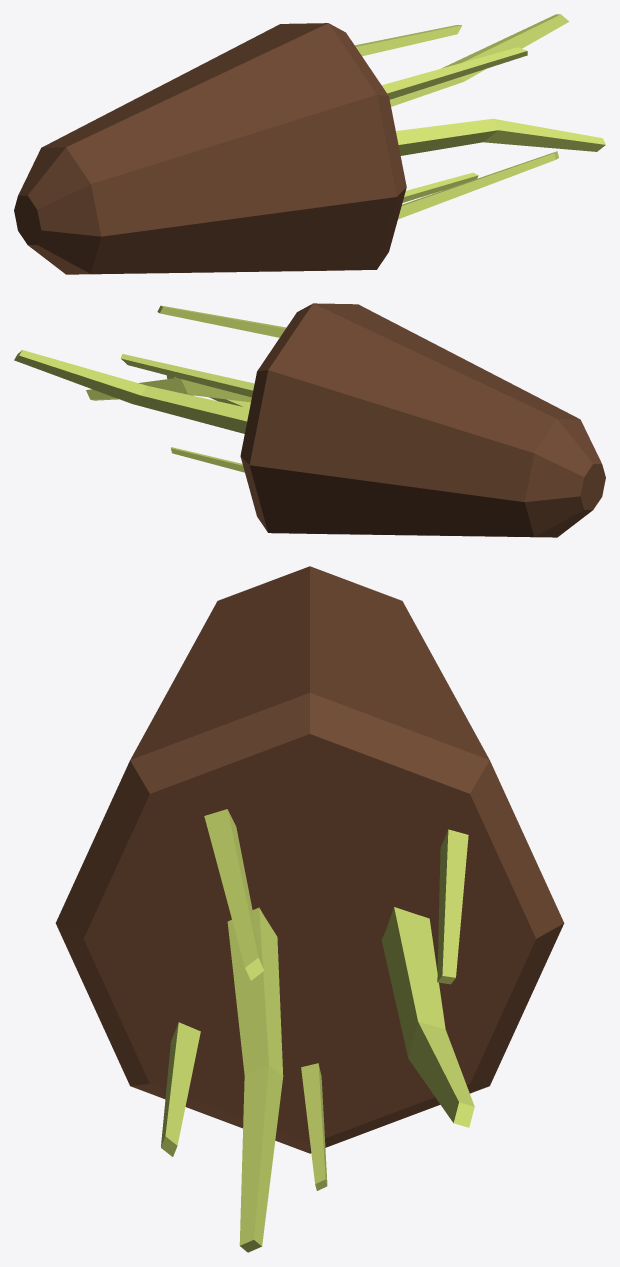
Rendered from Carrot_Seedling.fbx.
3 views of the same model, one above another, from view 1: azimuth 30°, elevation 25°; view 2: azimuth 150°, elevation 25°; view 3: azimuth 270°, elevation 25° (orthographic). The views are drawn at different scales.
Visible parts, largest first — view 1: Carrot_Seedling; view 2: Carrot_Seedling; view 3: Carrot_Seedling.
Part boxes in pixels (x1,y1,x2,y2): Carrot_Seedling: [14, 14, 605, 274]; Carrot_Seedling: [14, 303, 605, 537]; Carrot_Seedling: [55, 566, 564, 1252].
Bounding box in the file's own units: 21.57 × 8.8 × 8.8.
